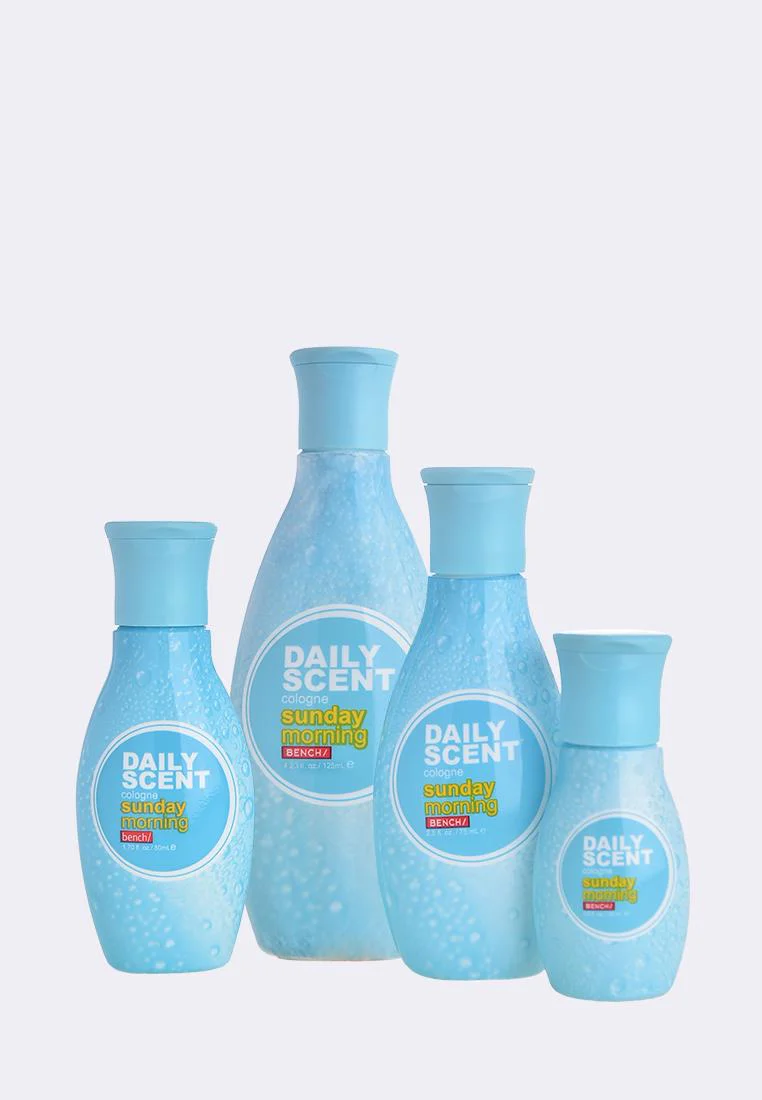toxic_waste: (254, 336, 385, 974), (72, 503, 239, 1002), (411, 464, 536, 974), (550, 619, 686, 997)
